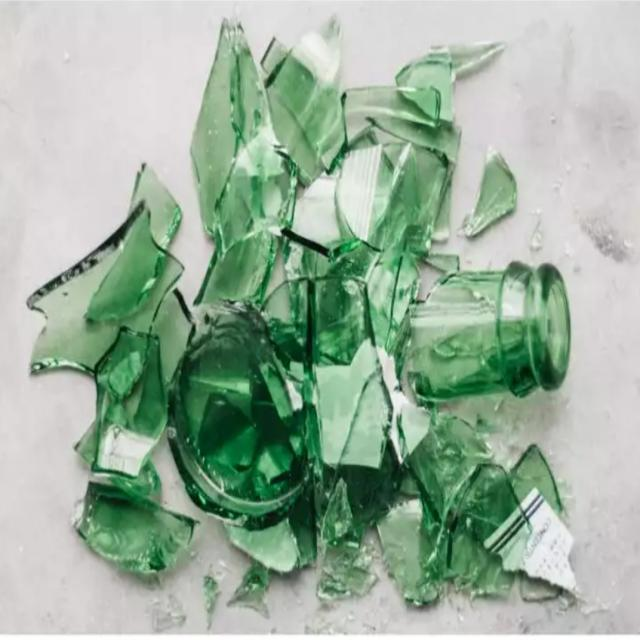PecahanKaca: (26, 12, 576, 619)
